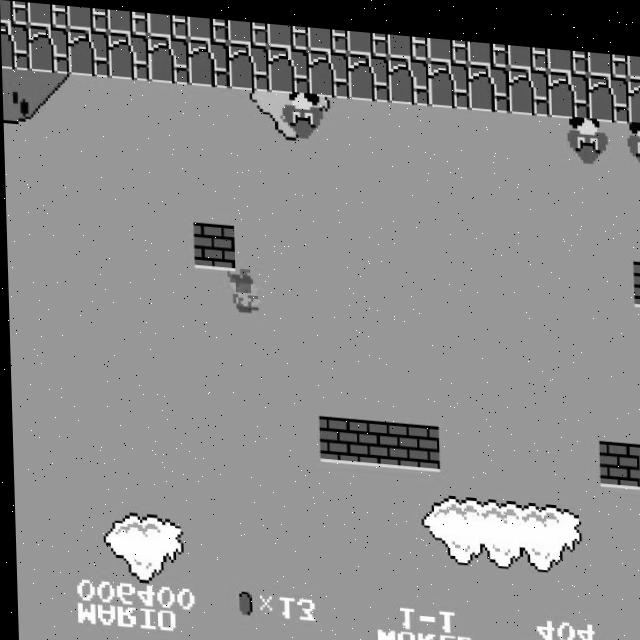1- brick_block: (192, 219, 234, 267), (316, 410, 358, 458), (356, 413, 398, 461), (396, 416, 438, 464), (596, 430, 638, 478), (632, 249, 640, 296)
11- little_mario: (218, 264, 262, 315)
13- mystery_block: (636, 433, 640, 479)
17- undestructible_block: (28, 24, 70, 73), (68, 27, 110, 76), (108, 30, 150, 79), (148, 33, 190, 82), (228, 38, 270, 87), (268, 41, 310, 90), (308, 44, 350, 93), (348, 47, 390, 96), (428, 52, 470, 101), (468, 55, 510, 104), (508, 58, 550, 107), (548, 61, 590, 110), (188, 36, 230, 84), (388, 50, 430, 98), (588, 64, 630, 112), (1, 22, 30, 70), (27, 2, 69, 28), (67, 5, 109, 31), (107, 7, 149, 33), (147, 10, 189, 36), (187, 13, 229, 39), (227, 16, 269, 42), (267, 19, 309, 45), (307, 21, 349, 47), (347, 24, 389, 50), (387, 27, 429, 53), (427, 30, 469, 56), (467, 33, 509, 59), (507, 35, 549, 61), (547, 38, 589, 64), (587, 41, 629, 67), (0, 0, 29, 25), (628, 66, 640, 113), (627, 44, 640, 68)
8- goomba: (564, 105, 608, 157), (279, 85, 323, 137), (624, 109, 640, 160)
